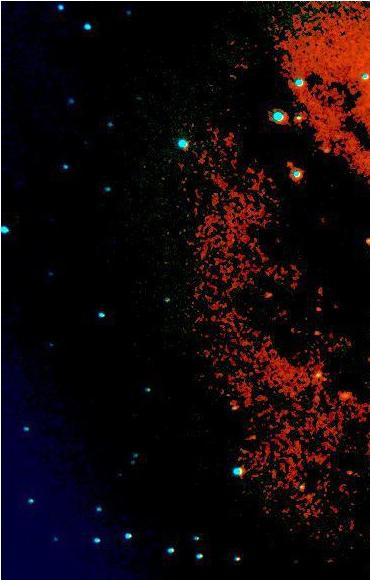star: (274, 149, 304, 179)
